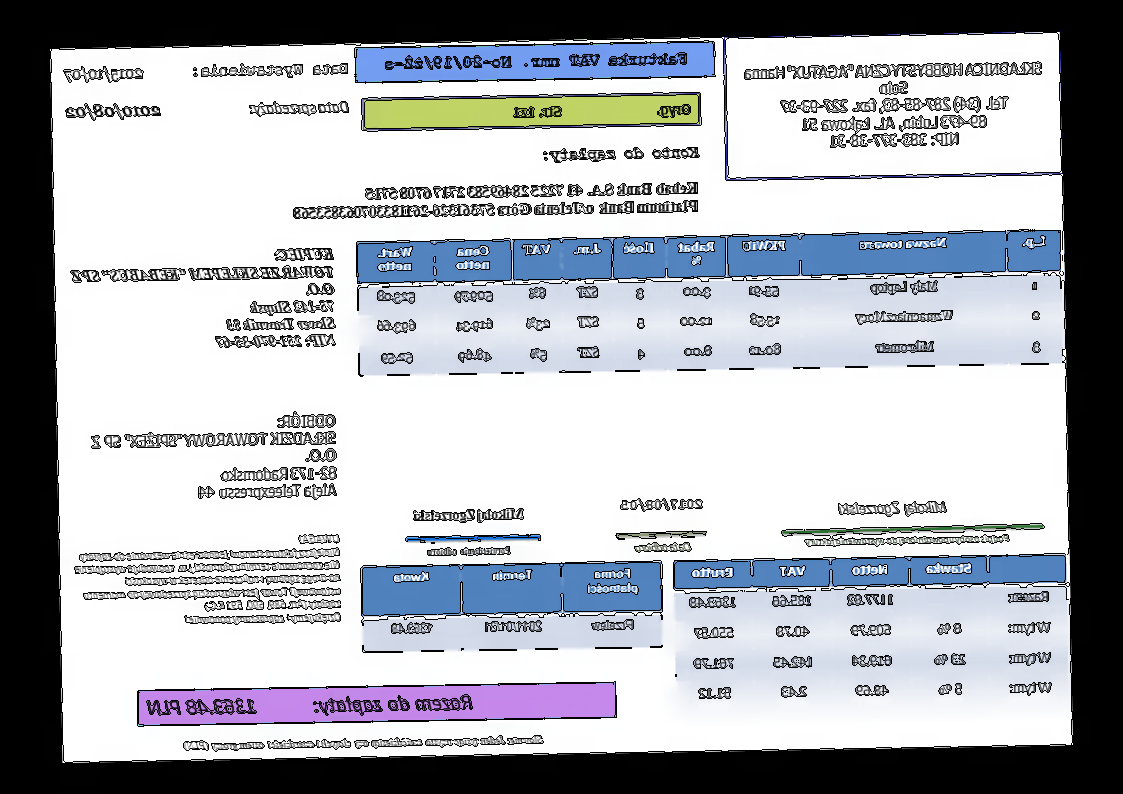Table: (355, 229, 1065, 378), (671, 553, 1071, 712), (360, 559, 665, 655)
TextBox: (63, 243, 339, 355), (742, 58, 1046, 154), (73, 532, 344, 630), (88, 408, 340, 507), (290, 179, 702, 222), (145, 690, 476, 721), (181, 731, 546, 754), (381, 48, 690, 73), (511, 99, 694, 123), (540, 143, 703, 165), (802, 531, 1012, 548), (192, 60, 350, 82), (411, 505, 528, 526), (64, 101, 164, 124), (834, 498, 948, 518), (248, 98, 352, 119), (619, 493, 706, 516), (62, 63, 146, 85), (426, 544, 514, 559), (632, 540, 693, 555)
